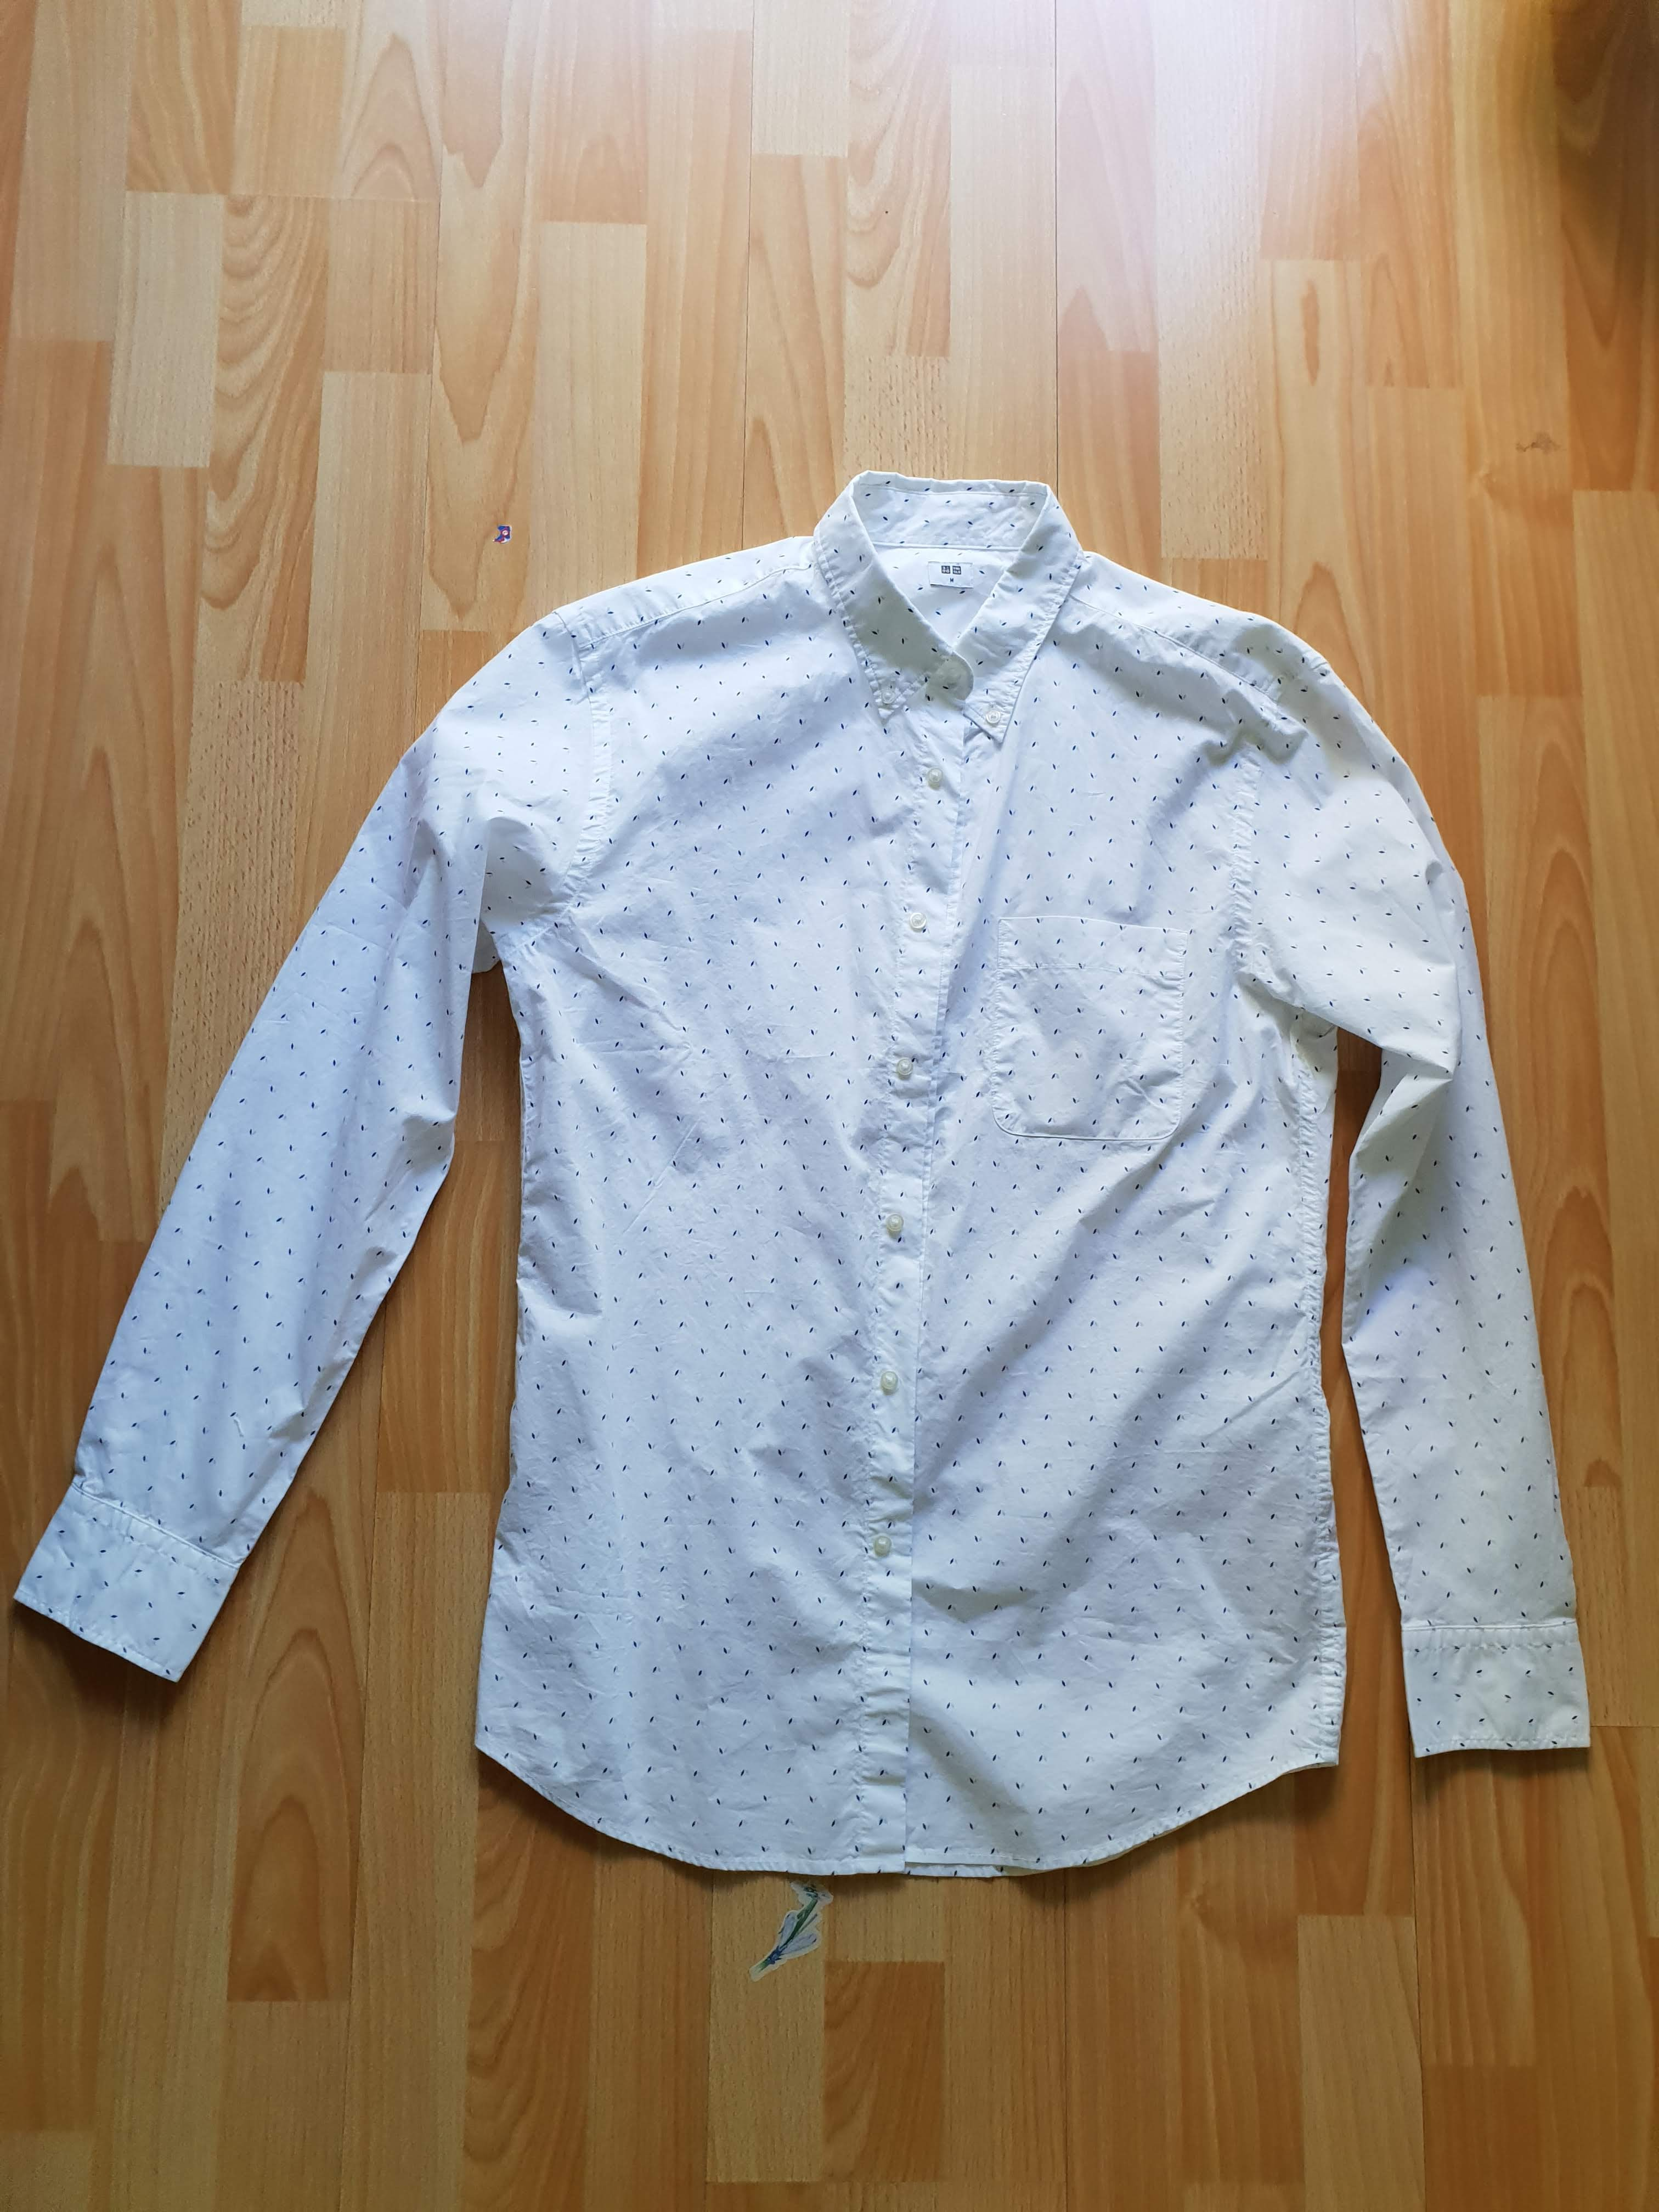clothes: (19, 469, 1598, 1886)
